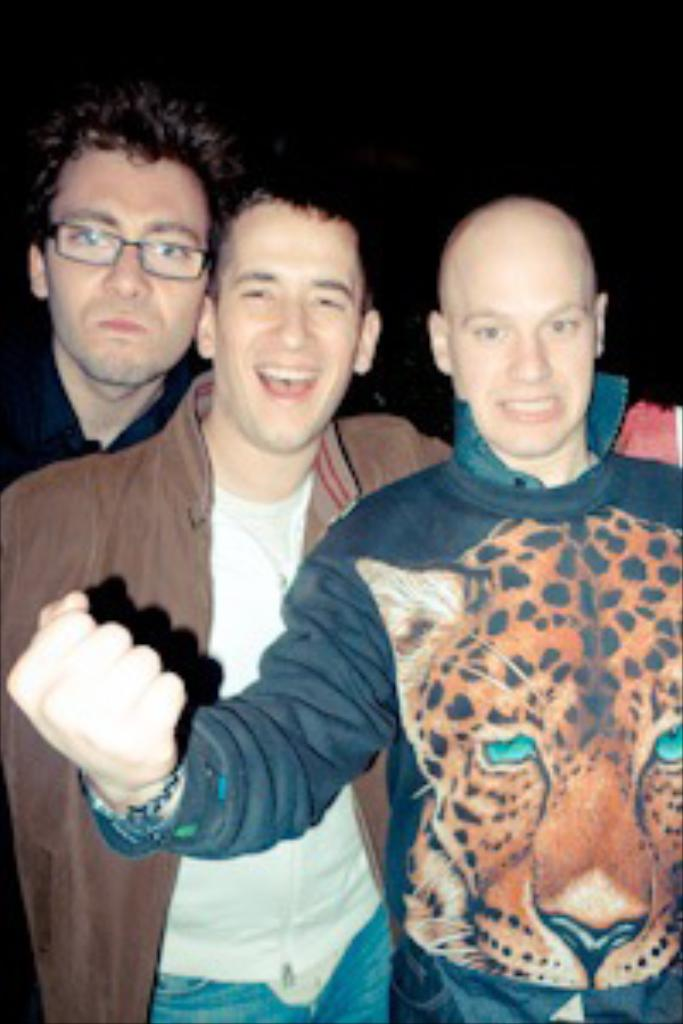Human_hand: (34, 618, 215, 802)
